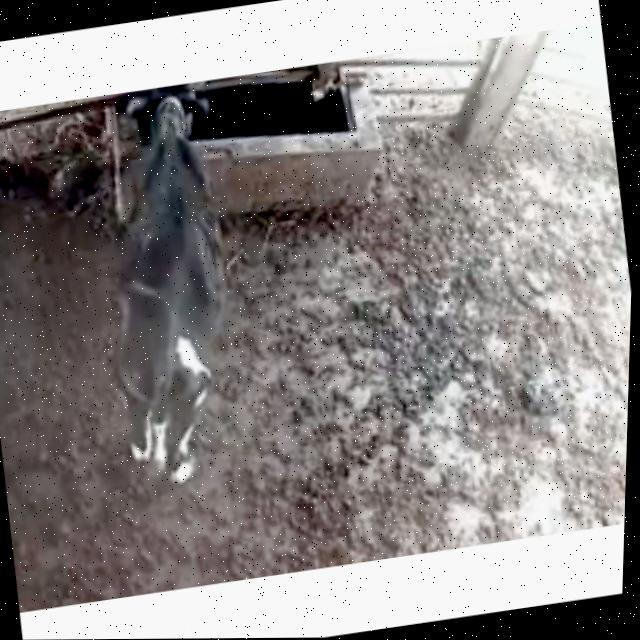drink: (91, 77, 252, 206)
